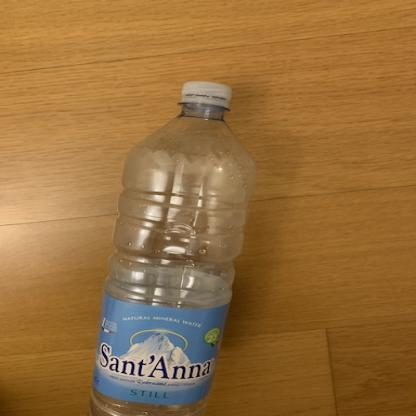trash: (81, 78, 257, 413)
